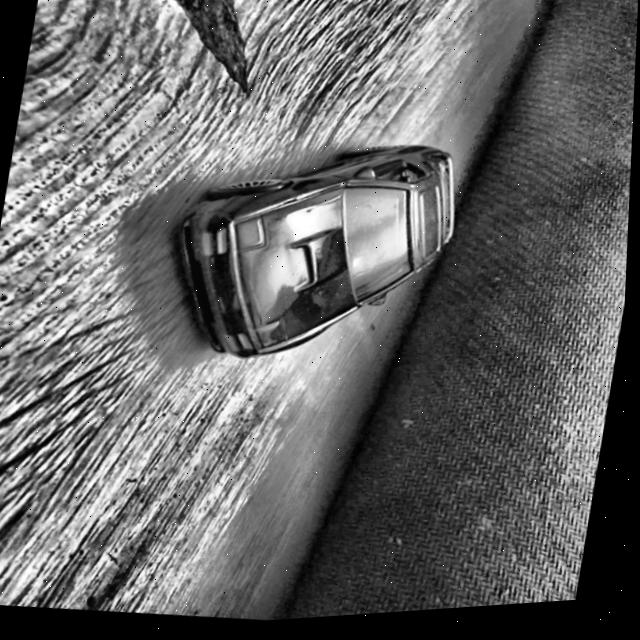car: (158, 121, 470, 389)
